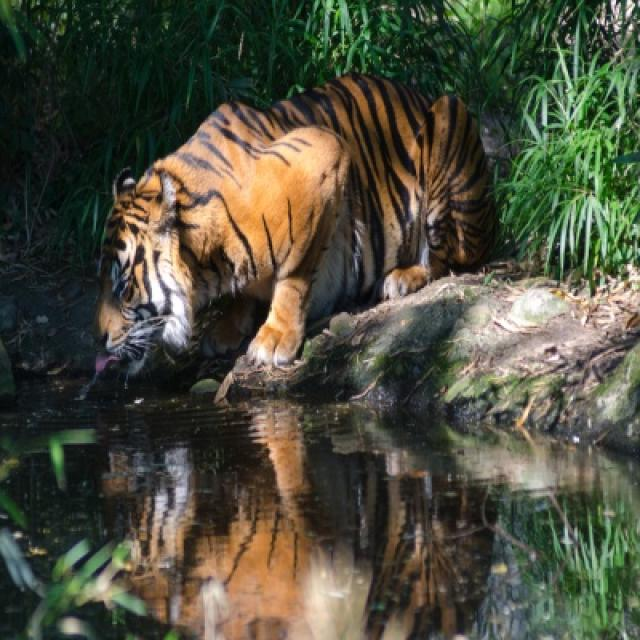Tiger: (90, 68, 495, 379)
